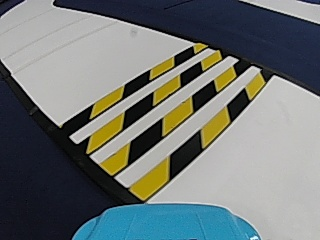bump: (60, 53, 272, 173)
